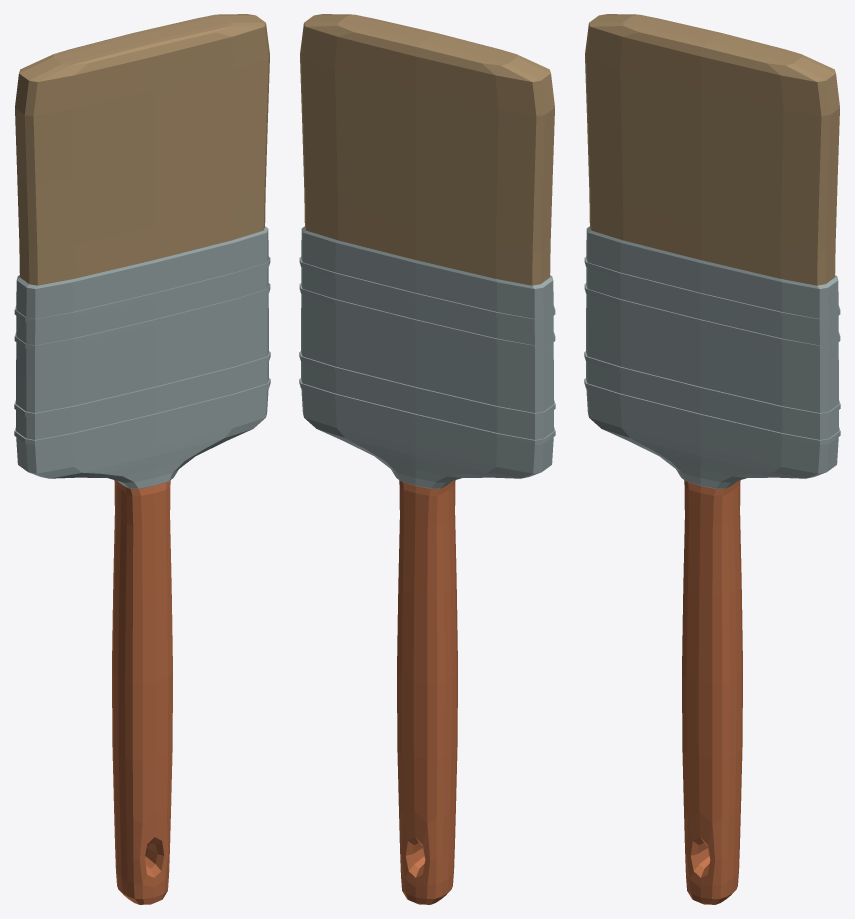
Rendered from BobBrush.fbx.
The picture shows the model from 3 angles, left to right: view 1: azimuth 30°, elevation 25°; view 2: azimuth 150°, elevation 25°; view 3: azimuth 330°, elevation 25°; orthographic projection.
Parts seen in each view (by area): view 1: Cube; view 2: Cube; view 3: Cube.
Boxes of the visible parts, box(x1,y1,x2,y2) form: Cube: box(14, 14, 270, 904); Cube: box(299, 14, 555, 904); Cube: box(584, 14, 840, 904).
Bounding box in the file's own units: 51.02 × 171 × 9.99.
